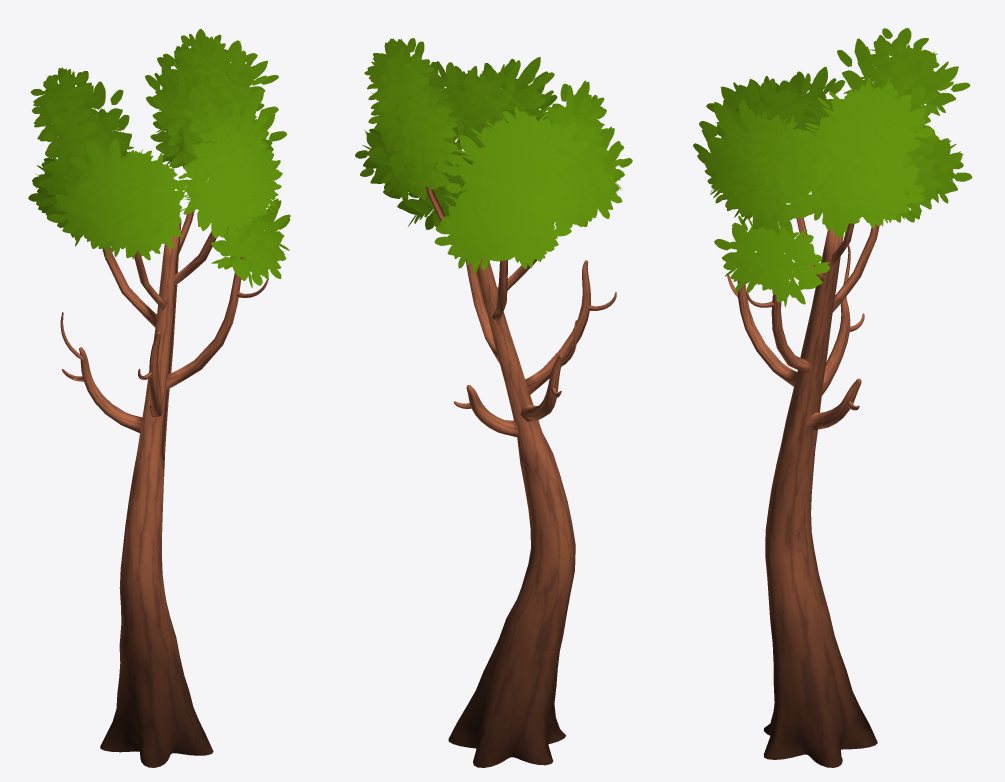
The model's file is CommonTree_4.gltf.
3 views of the same model, side by side, from view 1: azimuth 30°, elevation 25°; view 2: azimuth 150°, elevation 25°; view 3: azimuth 270°, elevation 25° (orthographic). The views are drawn at different scales.
Parts seen in each view (by area): view 1: CommonTree_4; view 2: CommonTree_4; view 3: CommonTree_4.
Part boxes in pixels (box(x1,y1,x2,y2)): CommonTree_4: box(28, 29, 290, 767); CommonTree_4: box(355, 38, 632, 767); CommonTree_4: box(693, 28, 972, 767).
Bounding box in the file's own units: 3.83 × 9.44 × 3.76.
2 materials, 2 textured.
